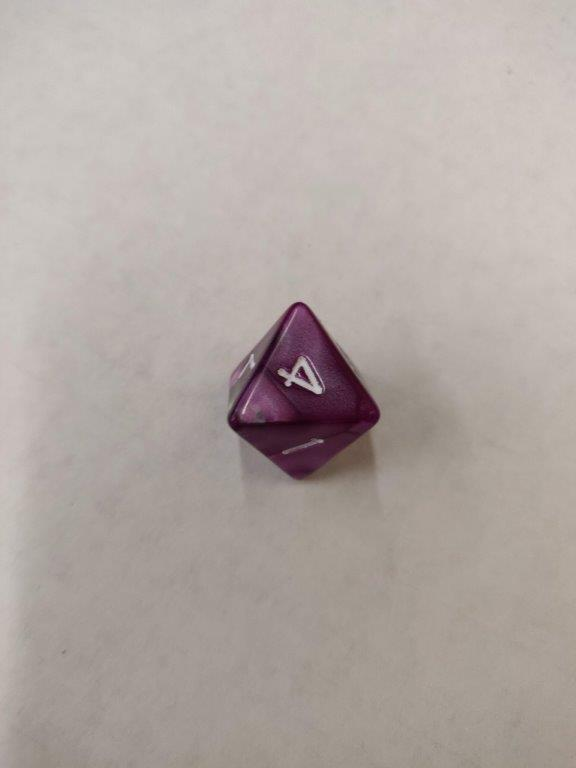d8-4: (225, 300, 382, 483)
